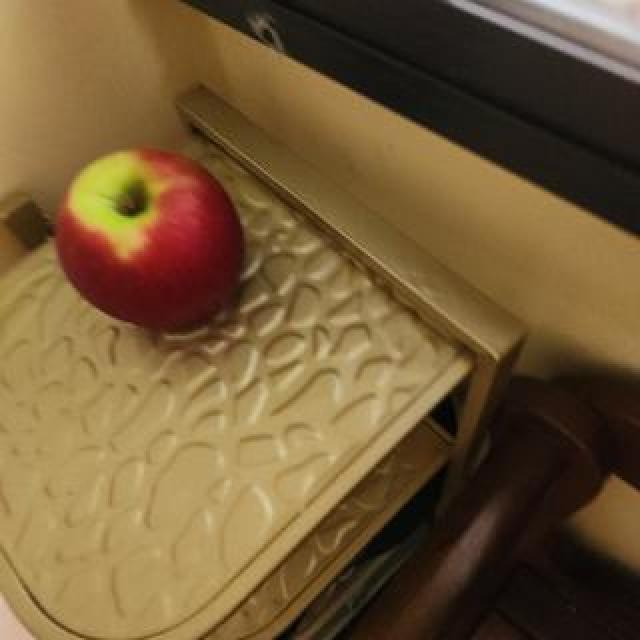Fresh Apple: (49, 153, 251, 331)
